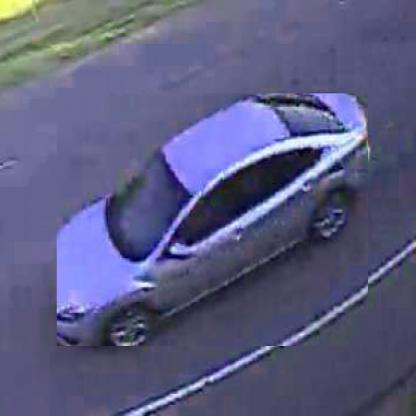car: (57, 95, 369, 349)
